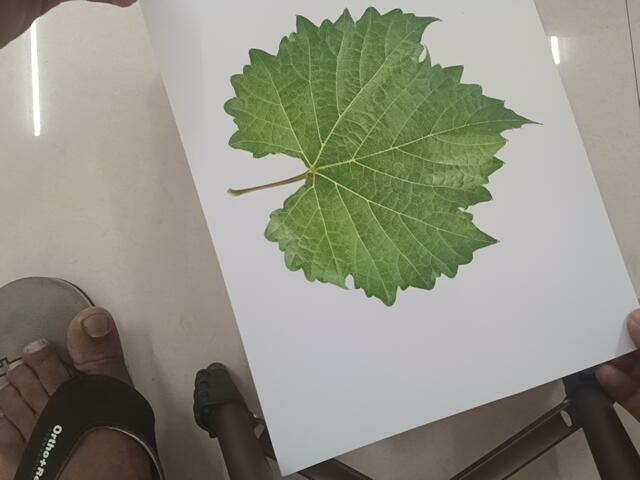Grape_Healthy: (215, 3, 548, 309)
